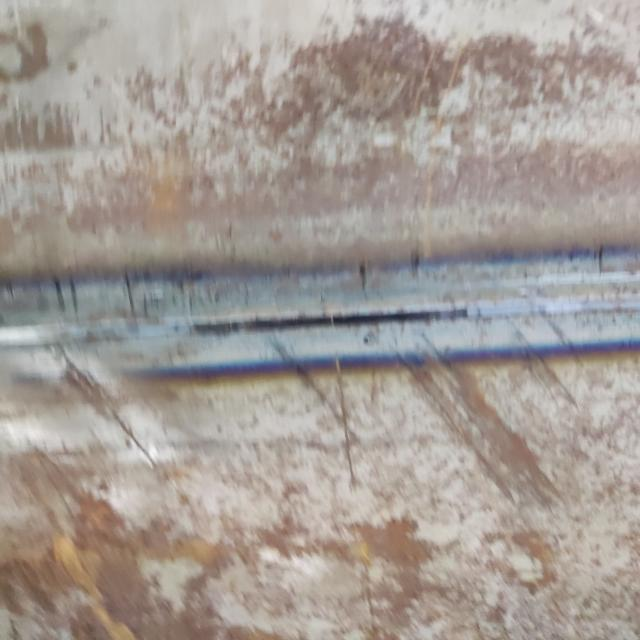seam: (0, 228, 640, 410)
